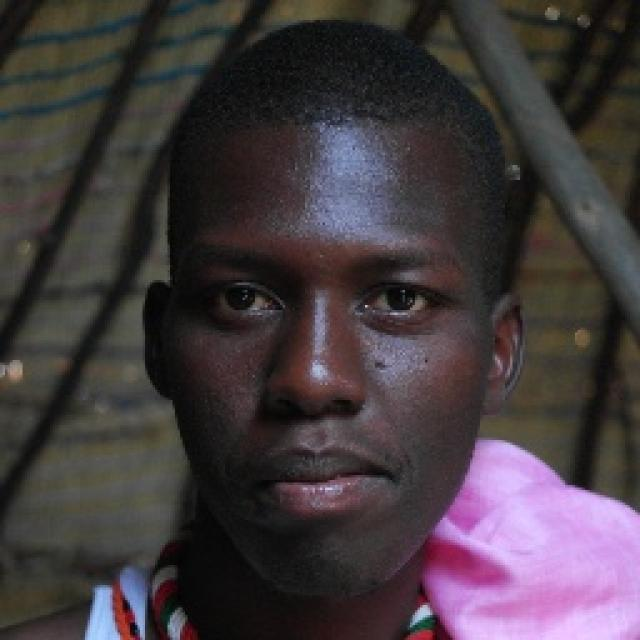earlobe: (482, 290, 524, 414), (141, 281, 172, 398)
